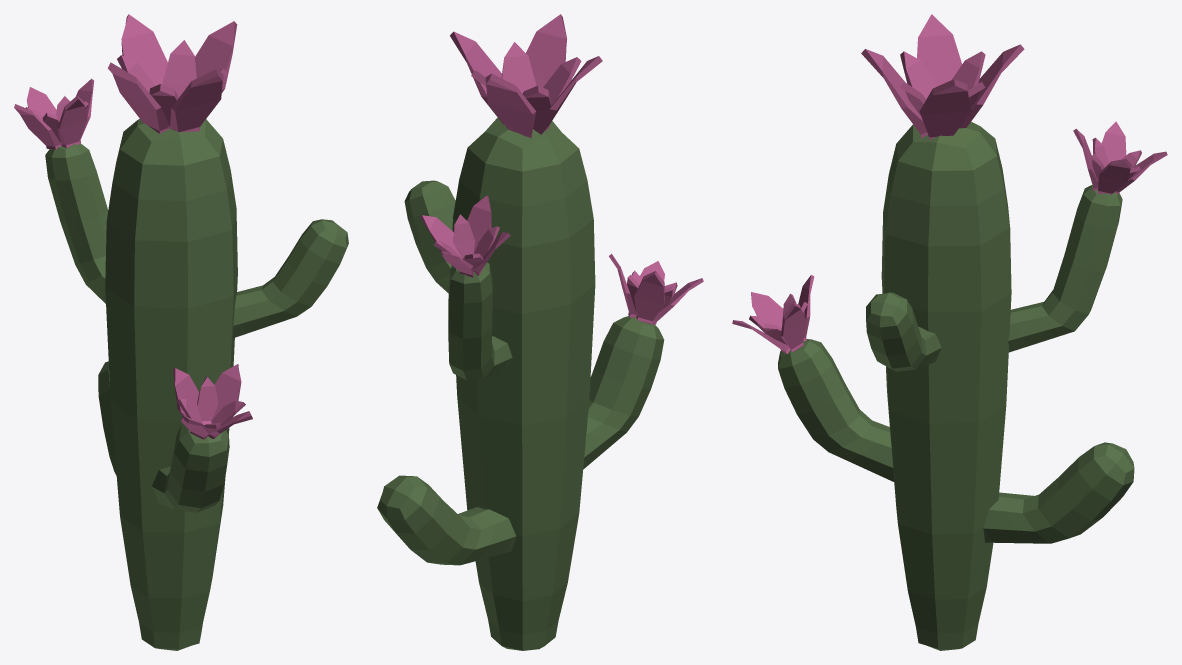
File: cactusflowers-2.glb
The picture shows the model from 3 angles, left to right: view 1: azimuth 30°, elevation 25°; view 2: azimuth 150°, elevation 25°; view 3: azimuth 270°, elevation 25°; orthographic projection.
Parts seen in each view (by area): view 1: CactusFlowers_2; view 2: CactusFlowers_2; view 3: CactusFlowers_2.
Part boxes in pixels (x1=…): CactusFlowers_2: x1=14, y1=14, x2=348, y2=650; CactusFlowers_2: x1=377, y1=14, x2=703, y2=650; CactusFlowers_2: x1=732, y1=14, x2=1167, y2=650.
Bounding box in the file's own units: 0.7653 × 1.94 × 1.28.
